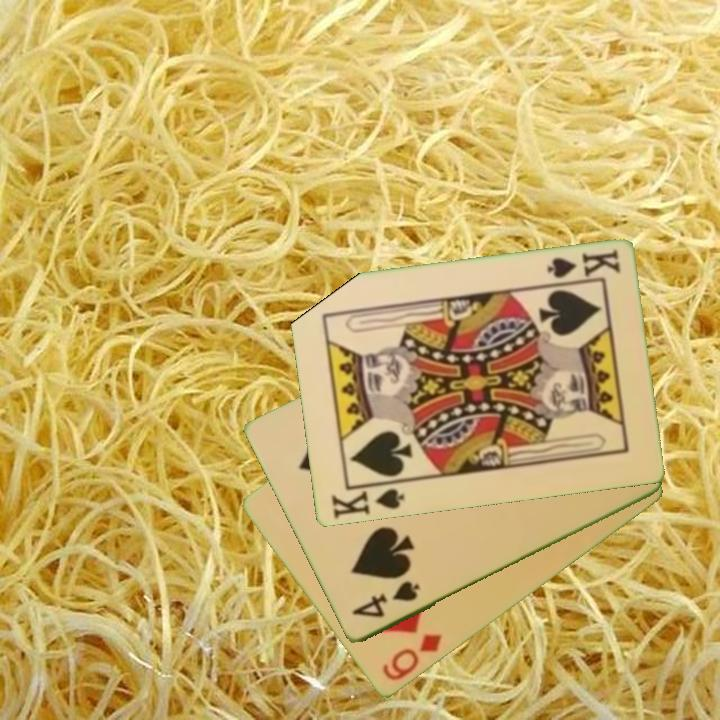4s: (348, 578, 423, 622)
6d: (378, 630, 445, 685)
Ks: (327, 485, 407, 522), (543, 246, 623, 282)
